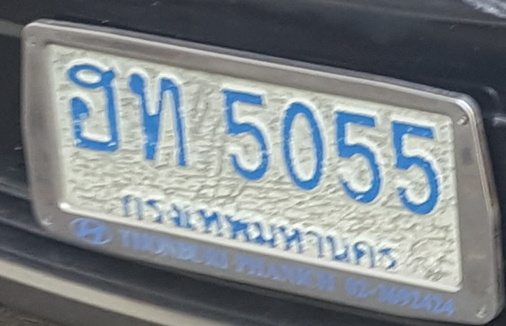txt18: (124, 66, 188, 171)
txt39: (66, 59, 121, 154)
